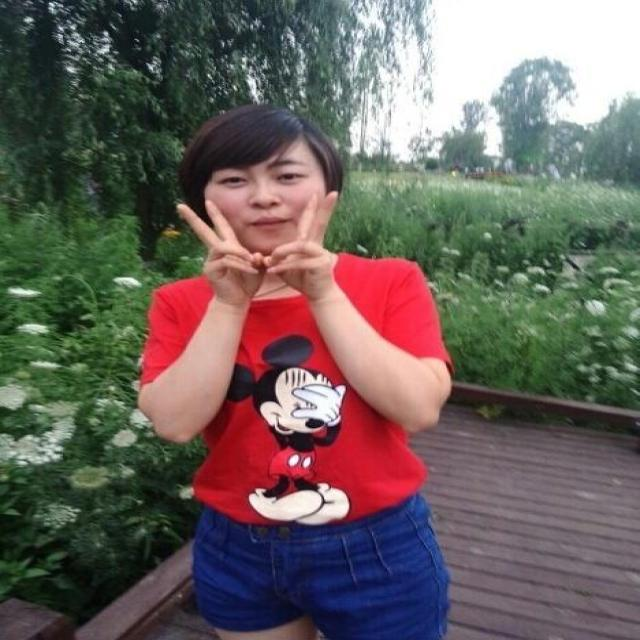short sleeve top: (141, 256, 450, 524)
shorts: (193, 496, 446, 637)
